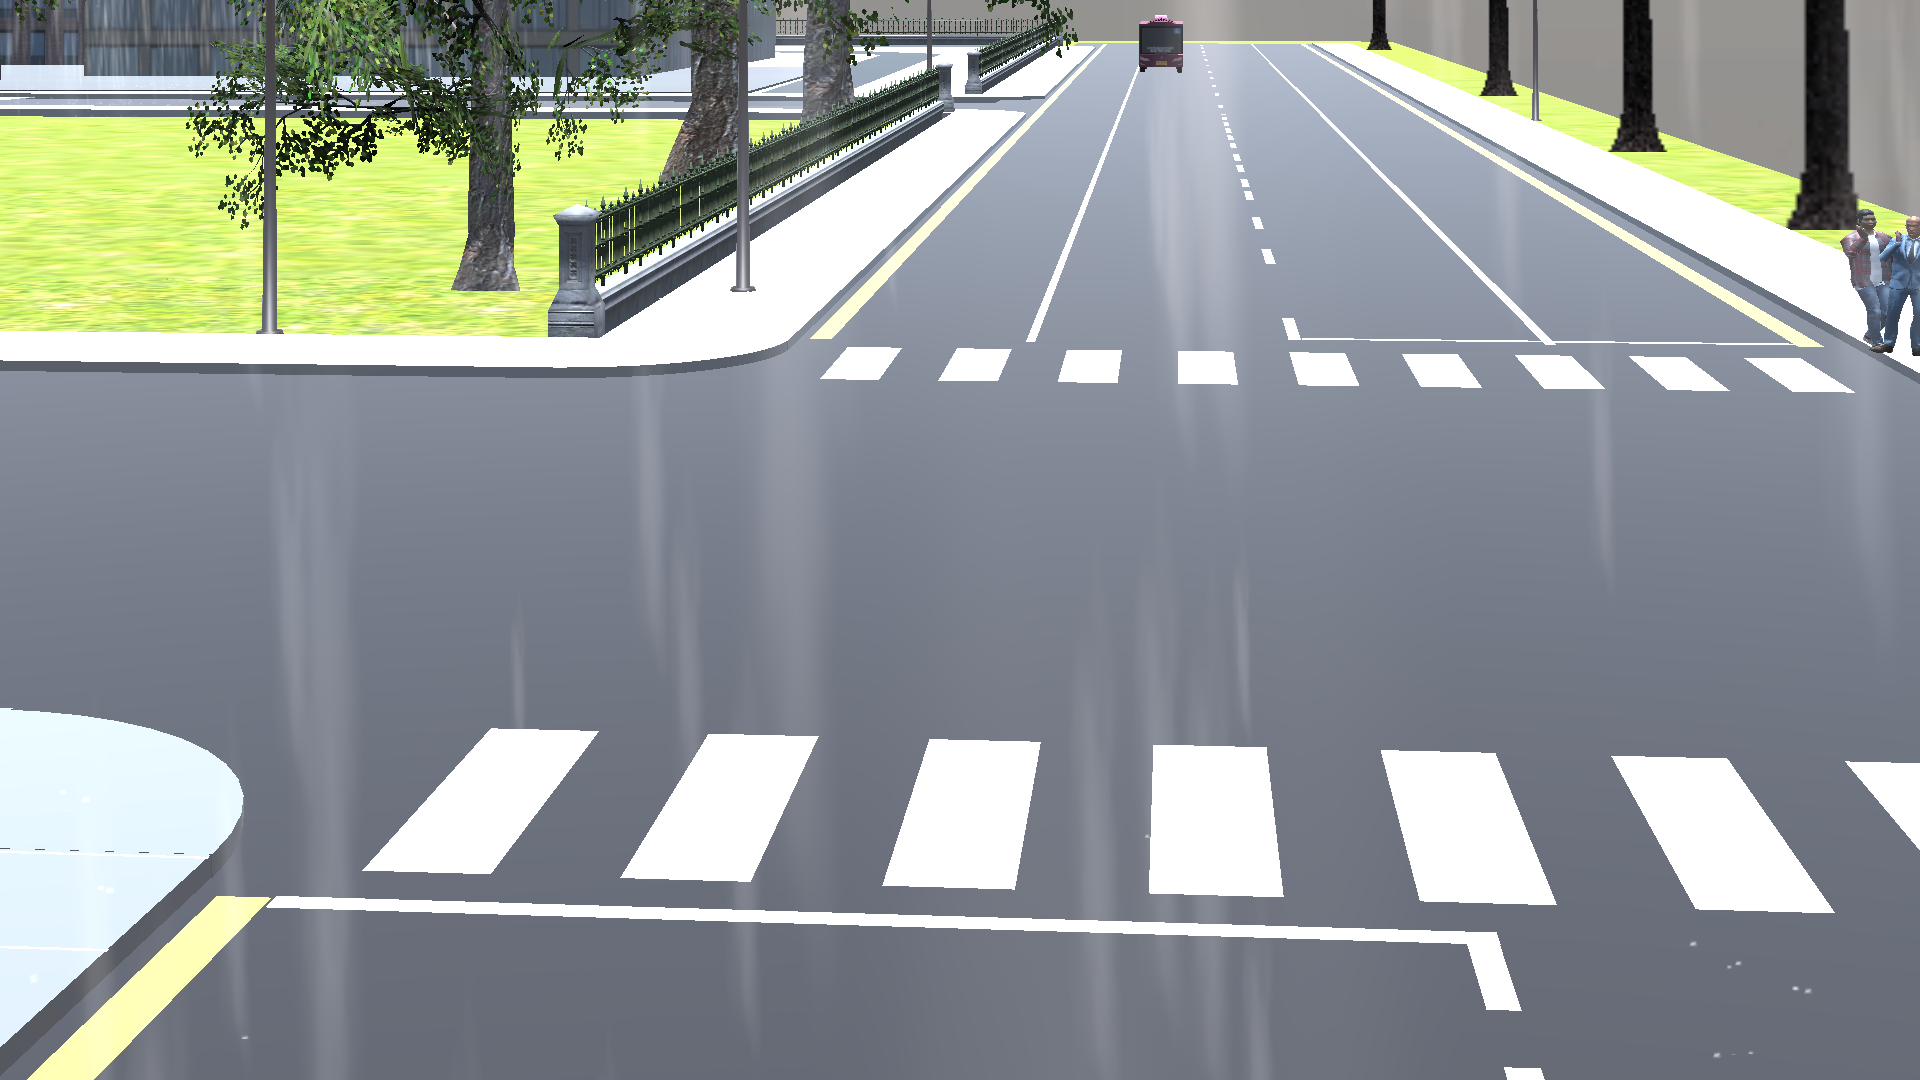pedestrian: (1836, 201, 1891, 344), (1891, 211, 1920, 362)
